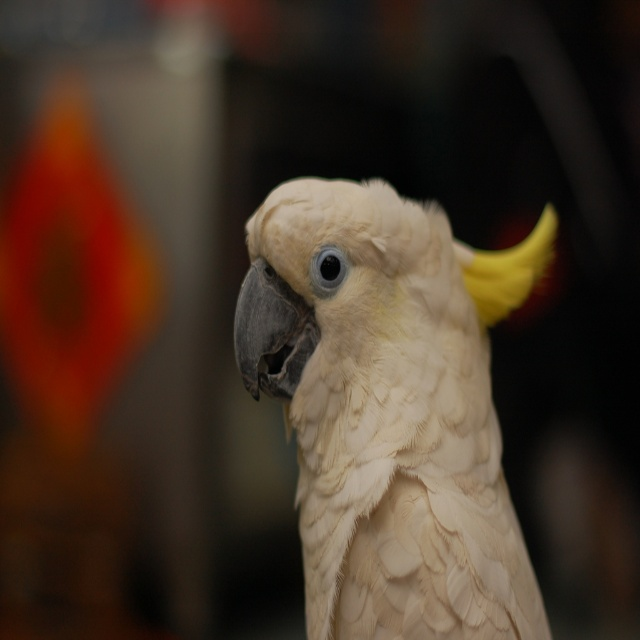Parrot: (234, 176, 558, 640)
